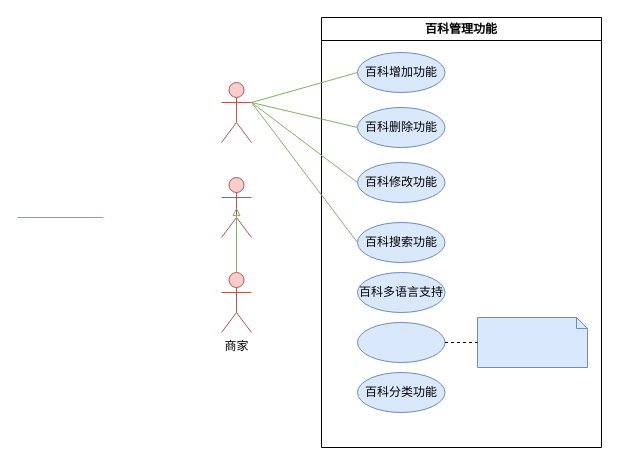
This 619x465 diagram has some shape labels left out. The box of each missing label's shape, as (x1, y1, x2, y2) in pixels:
推荐用户可能感兴趣的词条: (476, 316, 588, 368)
普通用户: (220, 176, 252, 238)
百科相关推荐: (356, 322, 445, 362)
管理员: (220, 82, 252, 142)
